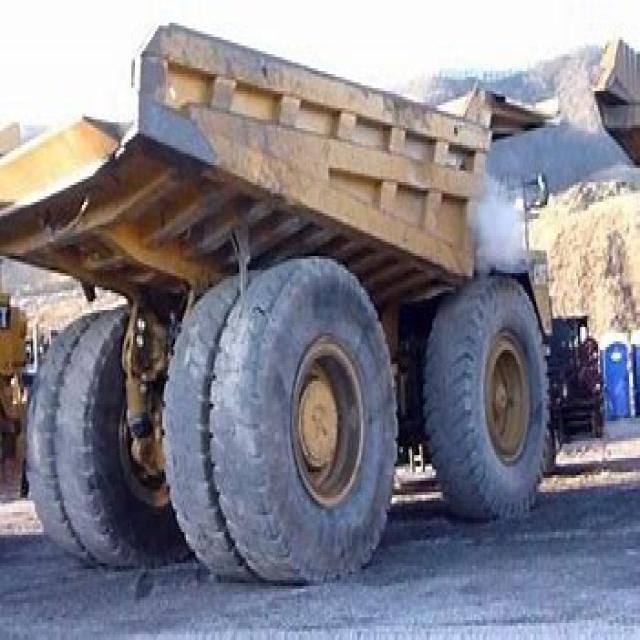dump_truck: (9, 3, 567, 572)
